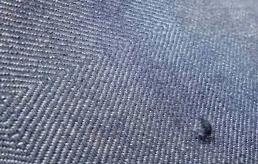knot: (193, 117, 216, 144)
